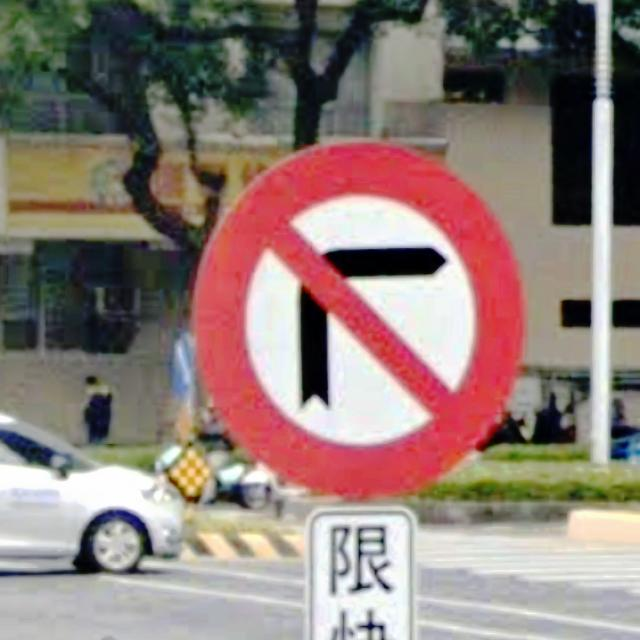noturnright: (191, 141, 528, 501)
